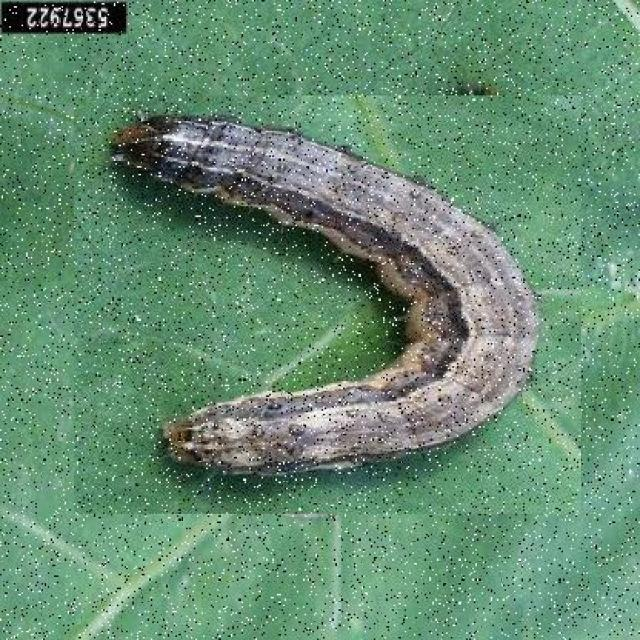Plaga: (95, 73, 559, 538)
